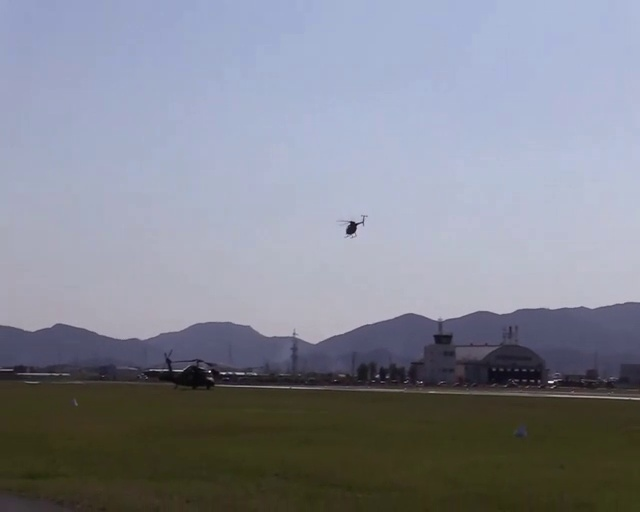HELICOPTER: (337, 214, 368, 237)
